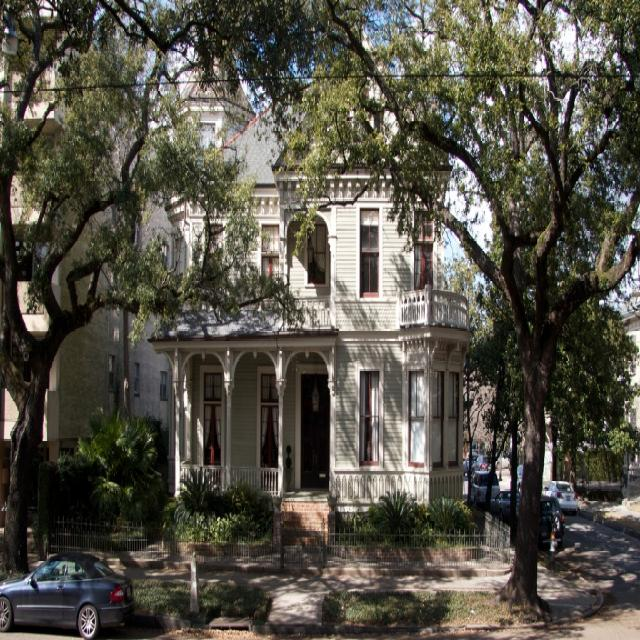other: (0, 555, 132, 632), (534, 490, 562, 547), (542, 479, 580, 508), (471, 470, 501, 504)
